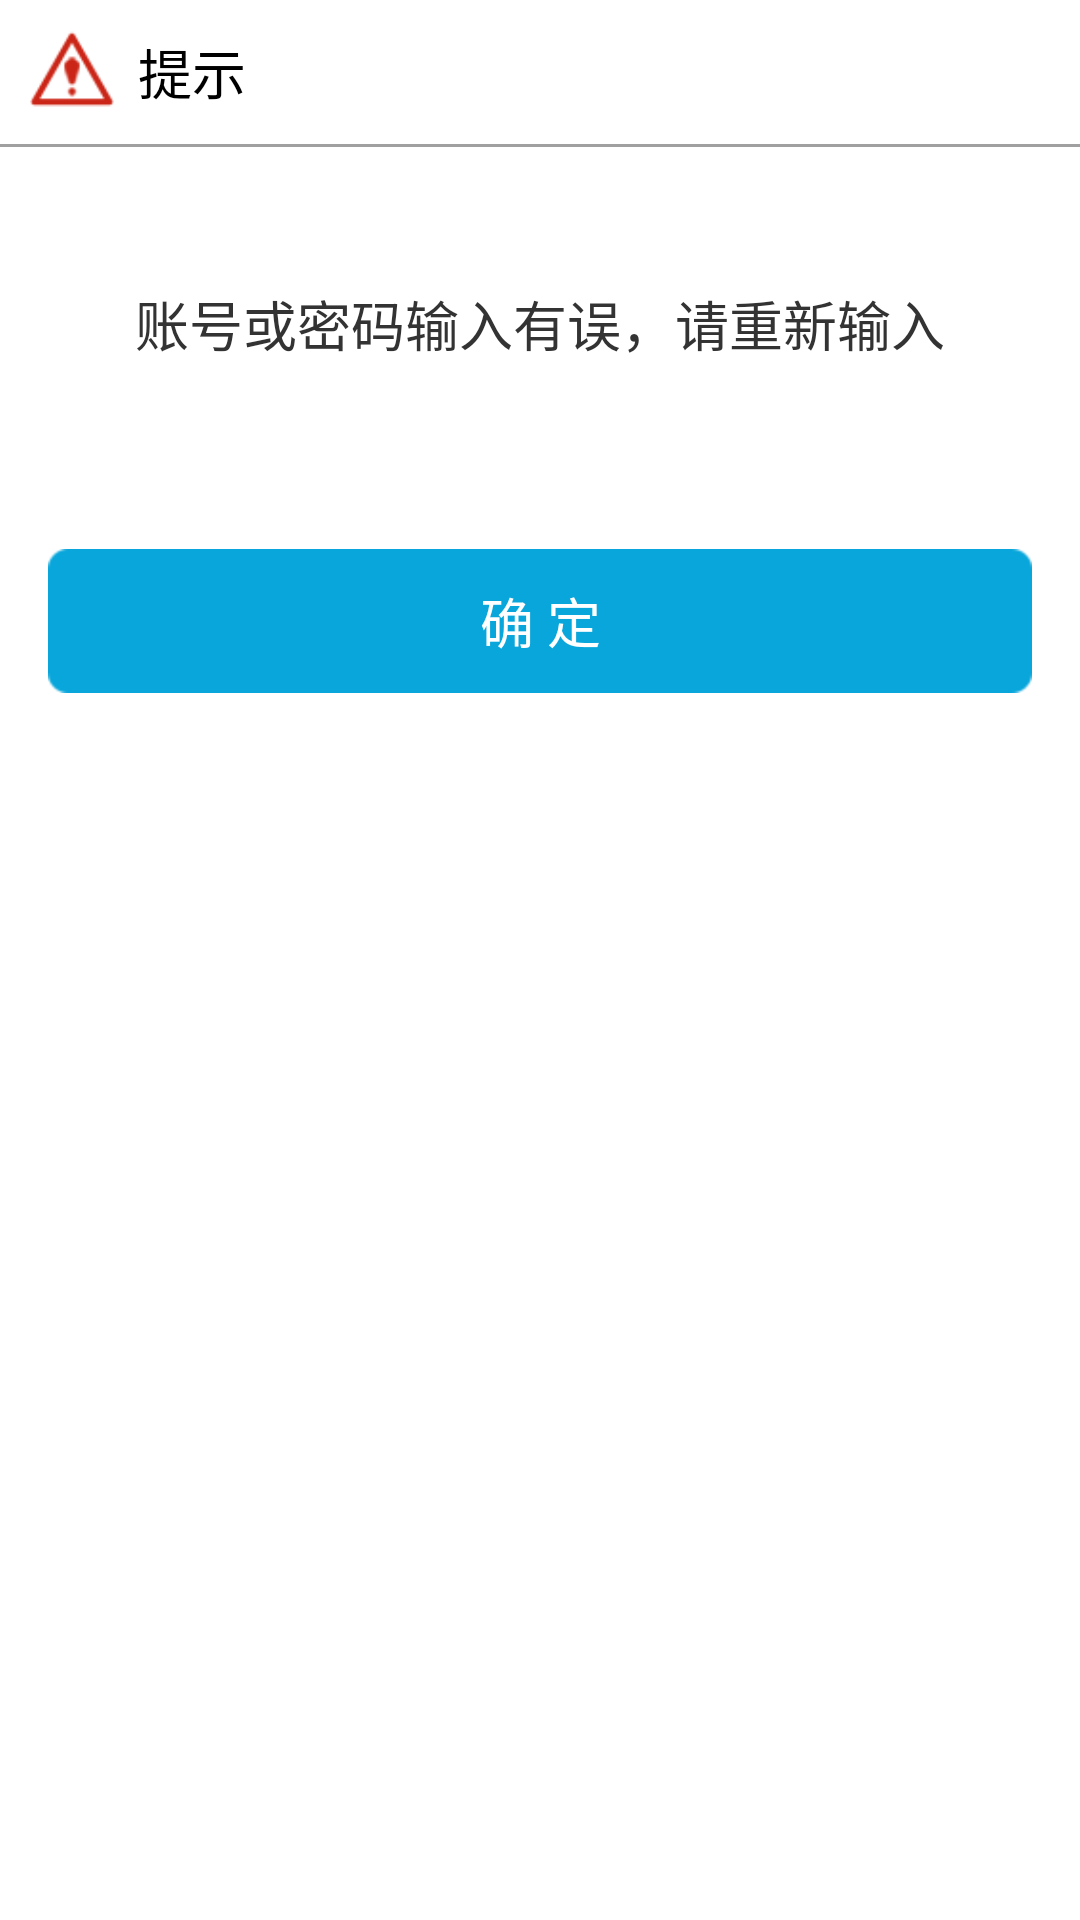

Where icons sit on this 1080x1920 app screen, as (x1, y1, x2, y2):
warning: (30, 32, 114, 107)
